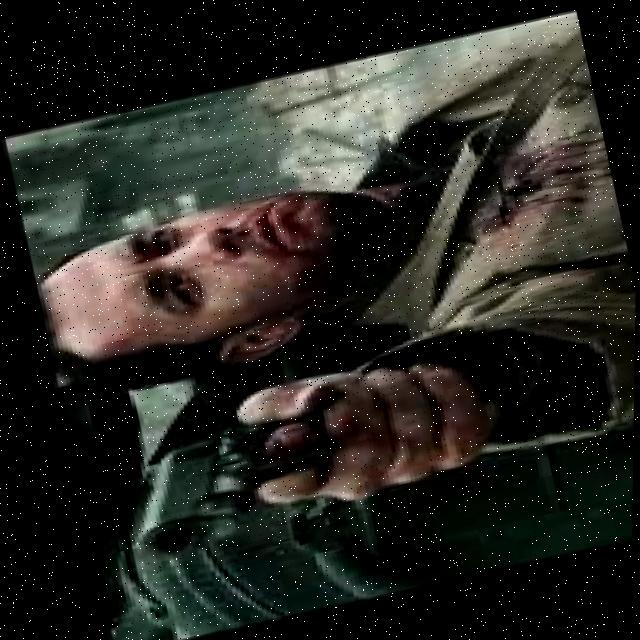pistol: (111, 404, 359, 567)
